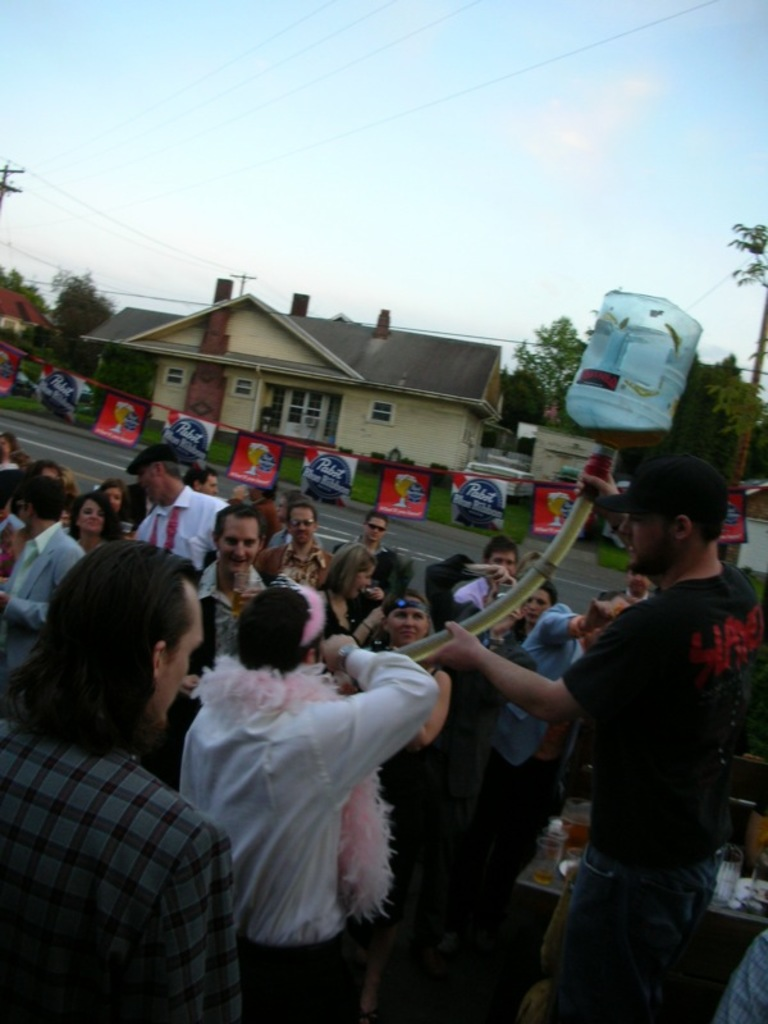Human-face: (0, 428, 682, 745)
